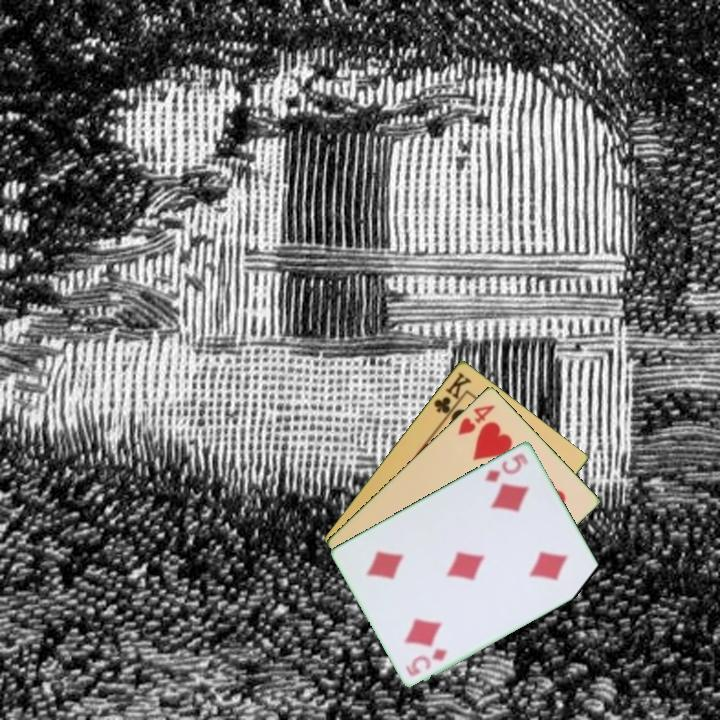4h: (454, 401, 497, 438)
5d: (481, 449, 531, 484), (407, 645, 451, 674)
Kc: (430, 368, 474, 422)
